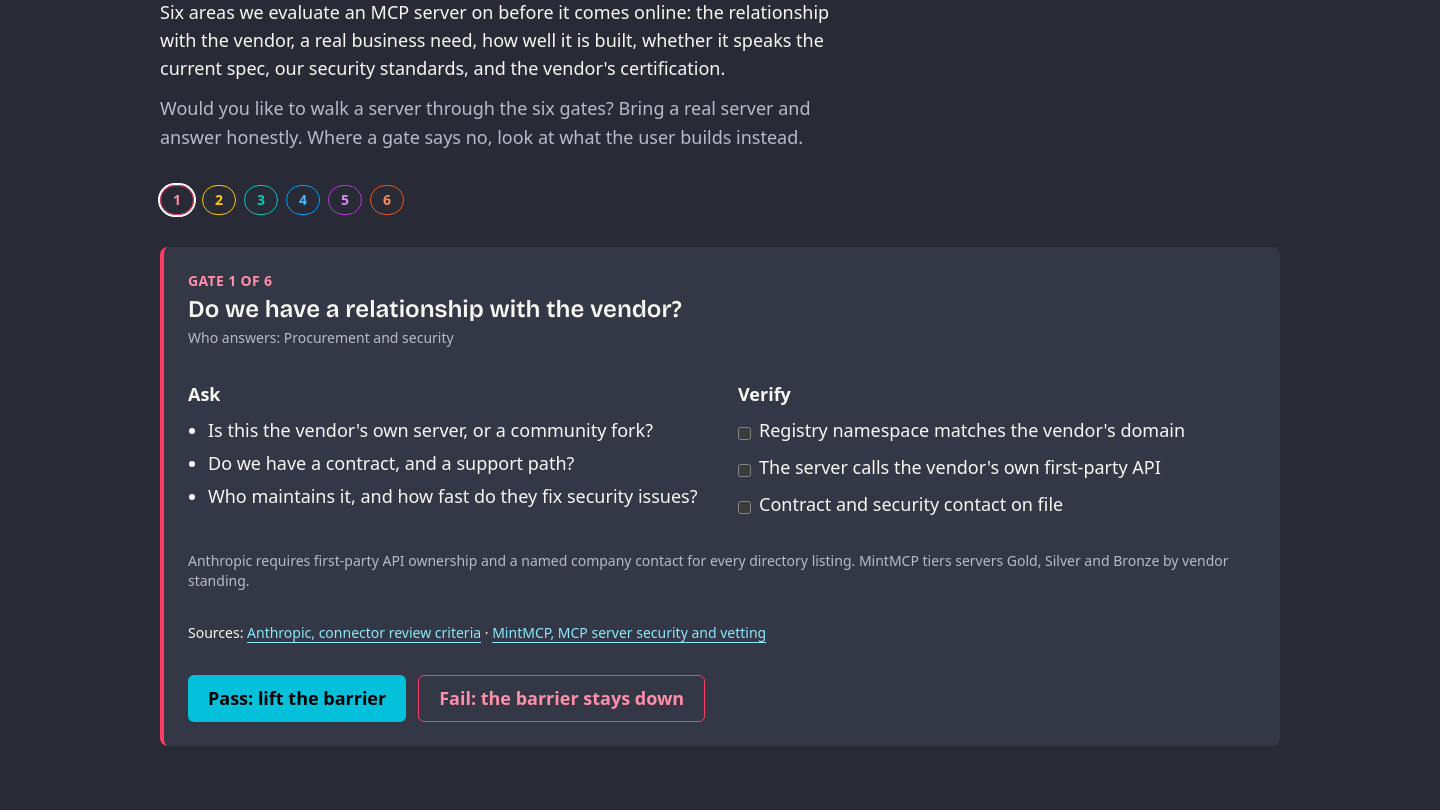
Test: the gate walk › admits a server that passes all six
(page scrolled)
Click the button "Pass: lift the barrier": (297,698) [188,675,406,722]
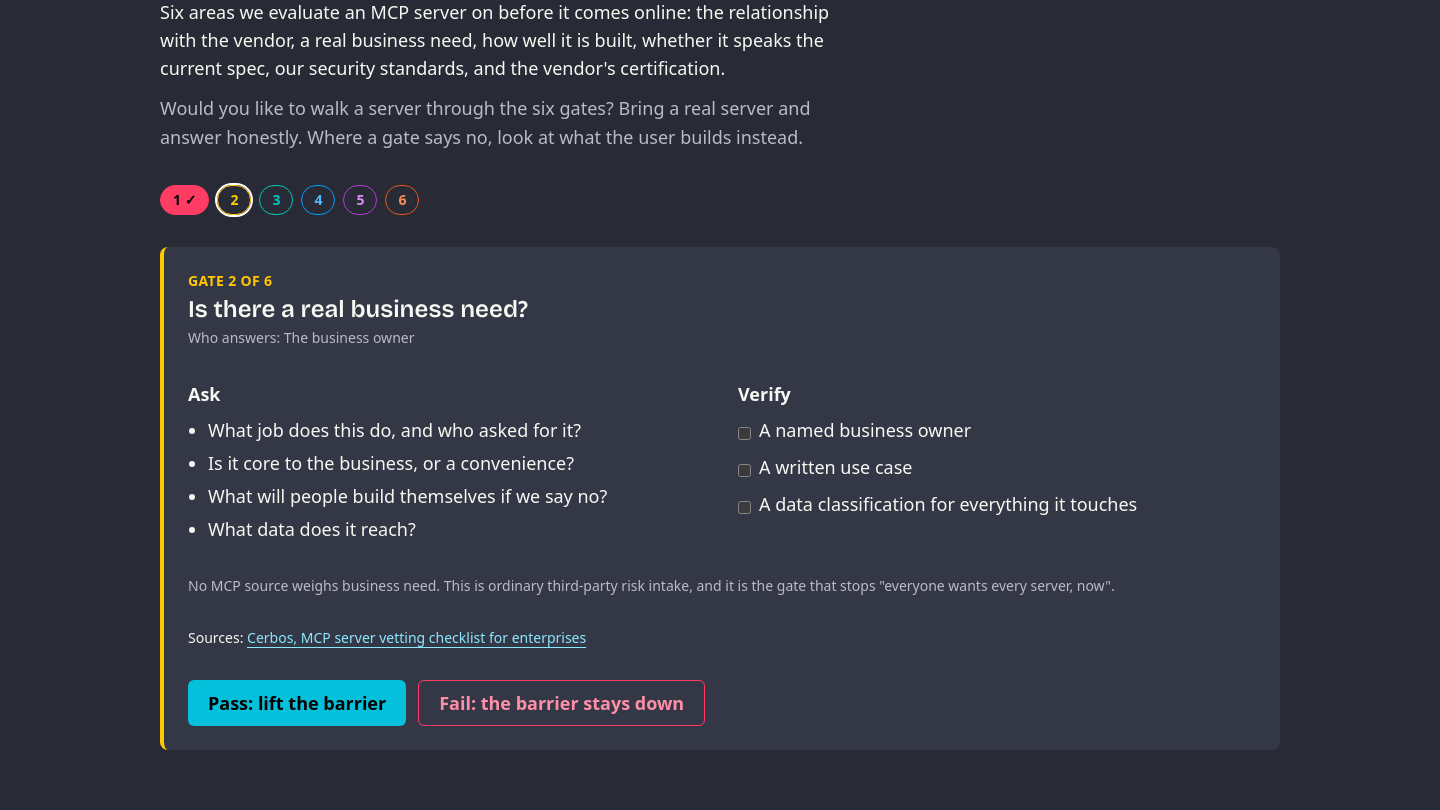
Click the button "Pass: lift the barrier": (297,703) [188,680,406,726]
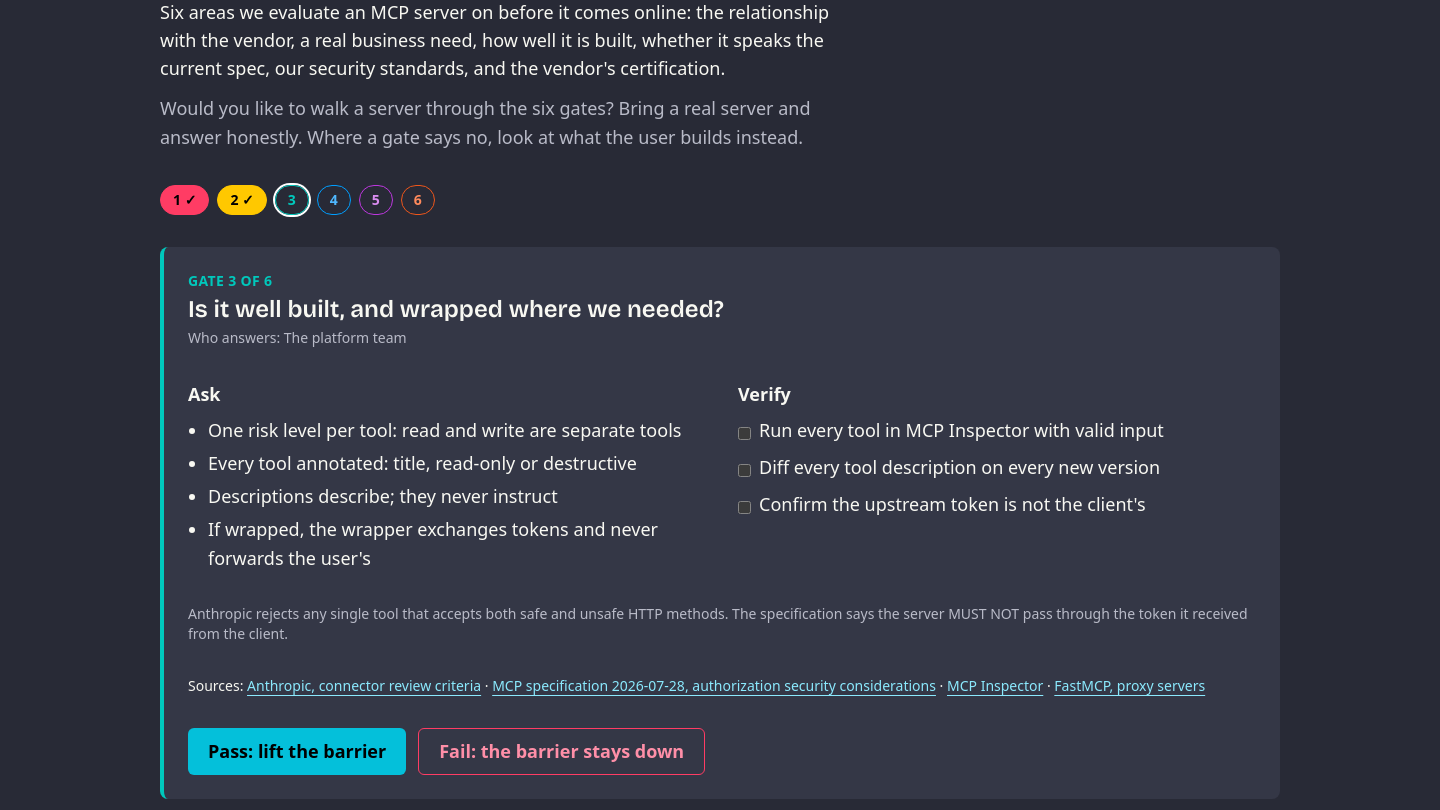
Click the button "Pass: lift the barrier": (297,752) [188,728,406,775]
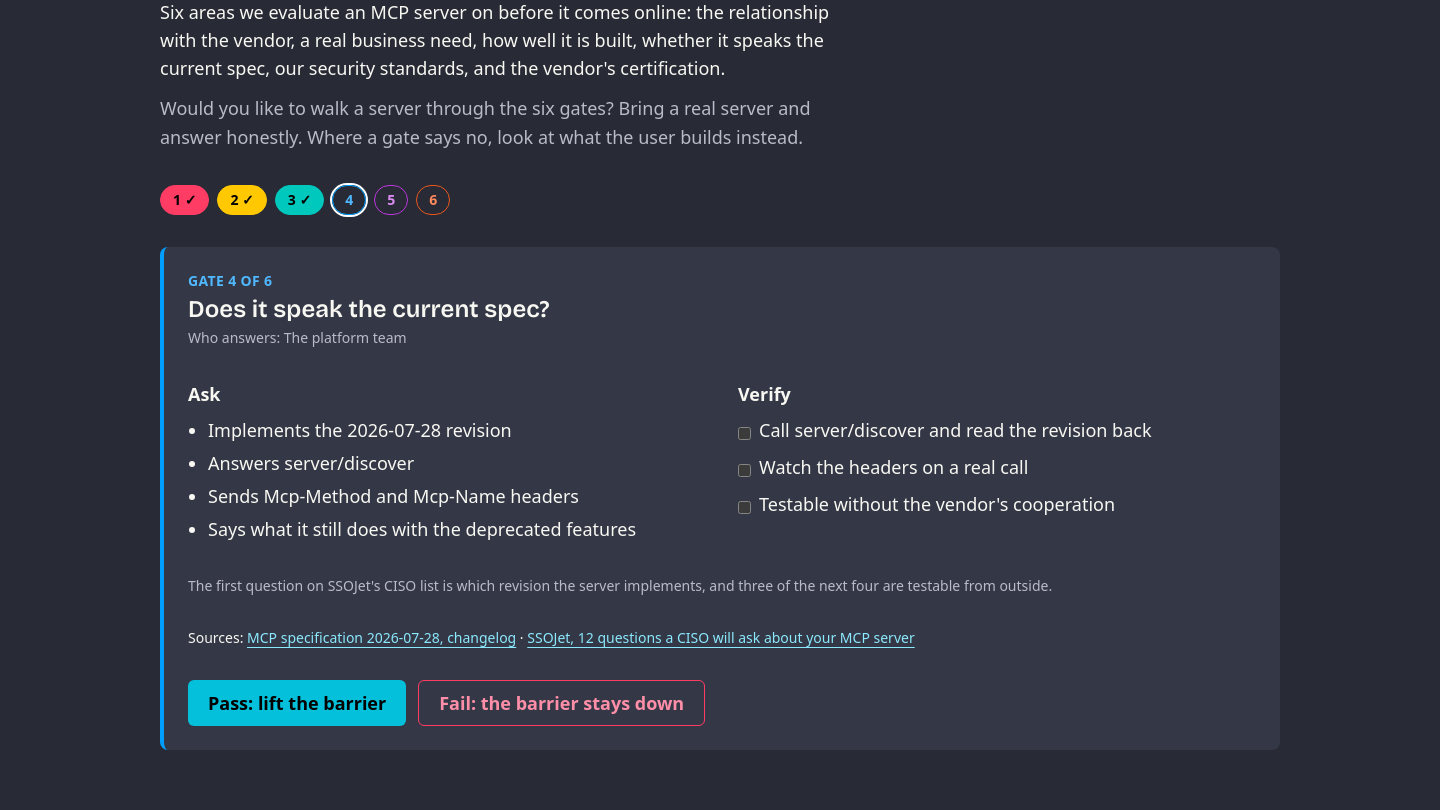
Click the button "Pass: lift the barrier": (297,703) [188,680,406,726]
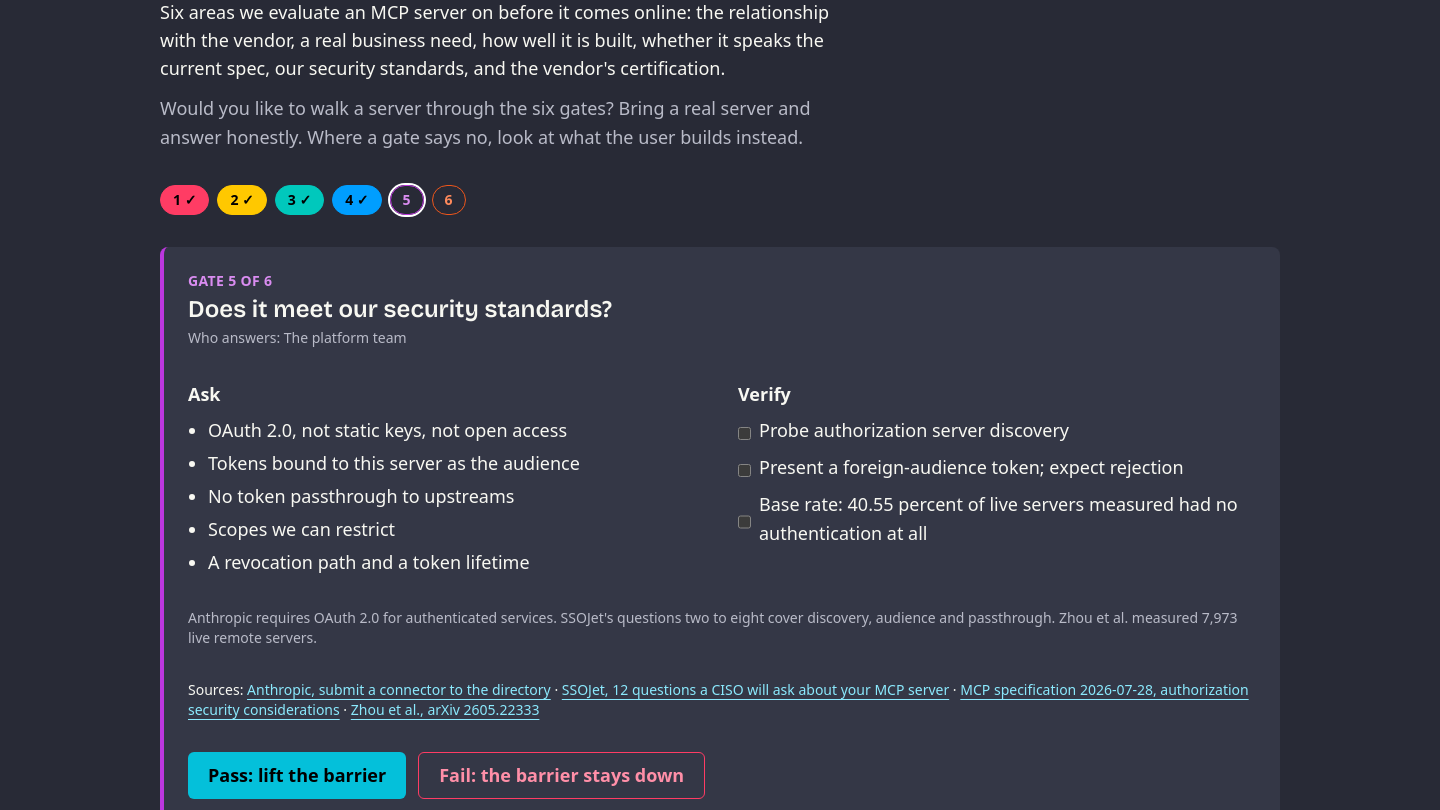
Click the button "Pass: lift the barrier": (297,776) [188,752,406,799]
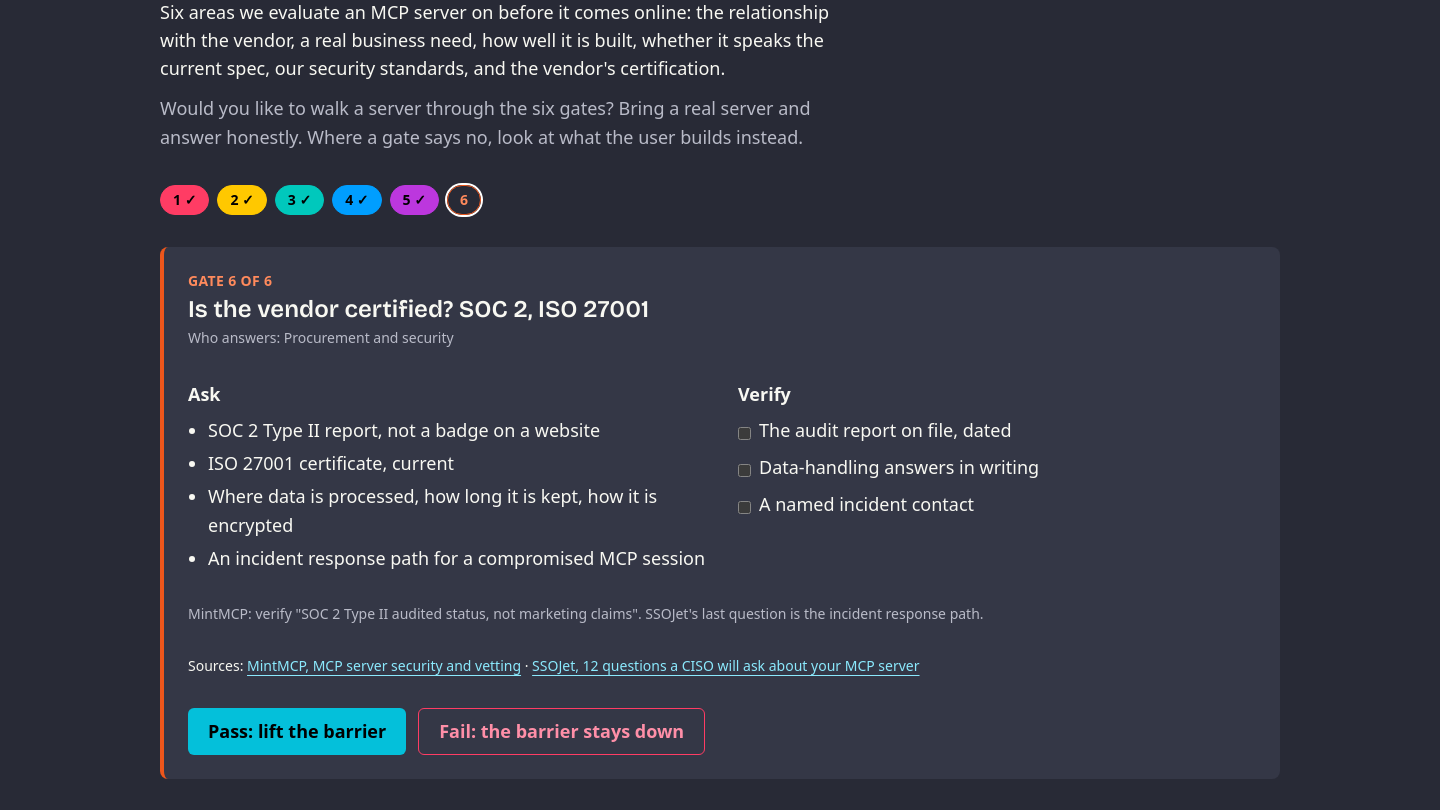
Click the button "Pass: lift the barrier": (297,732) [188,708,406,755]
(page scrolled)
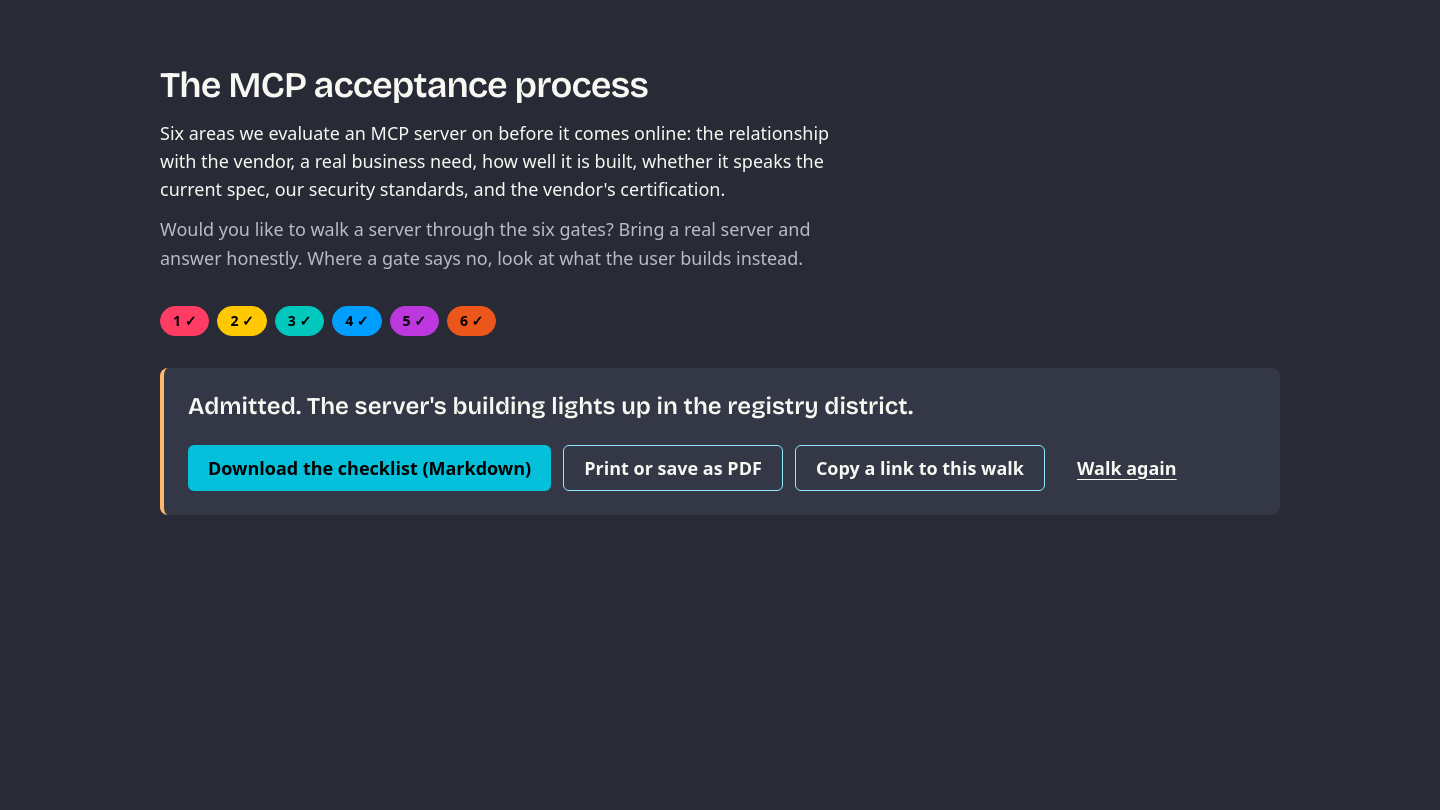
Expected: the element with test id "result" shows "Admitted", [188,392,913,420]
